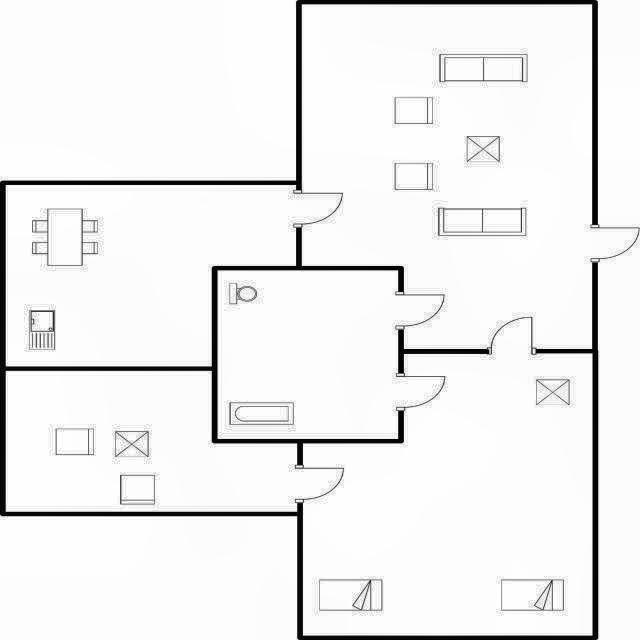room: (302, 4, 592, 349), (303, 353, 593, 636), (6, 185, 296, 366), (6, 371, 297, 512), (218, 270, 398, 439)
